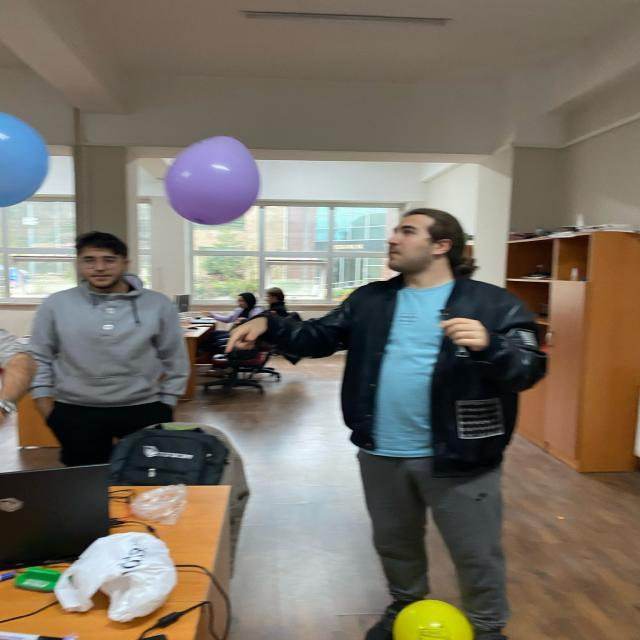balloon: (164, 134, 262, 225), (0, 113, 52, 212), (398, 594, 473, 640)
